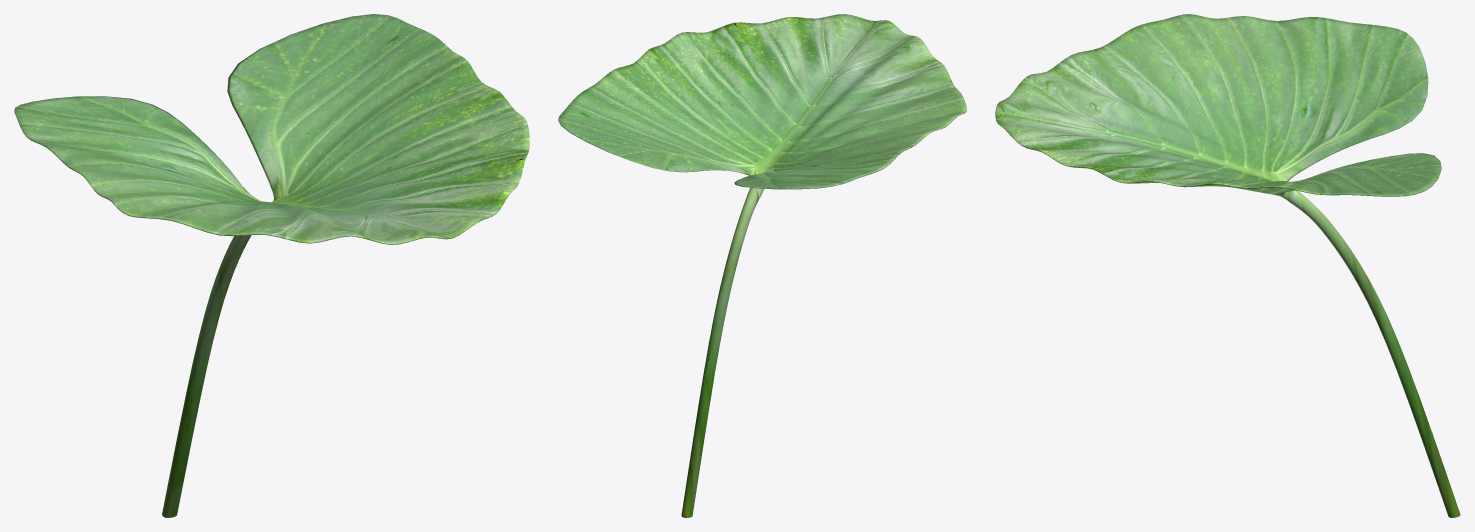
File: sprout.glb
3 renders of one model, left to right at view 1: azimuth 30°, elevation 25°; view 2: azimuth 150°, elevation 25°; view 3: azimuth 270°, elevation 25°, orthographic. The views are drawn at different scales.
Visible parts, largest first — view 1: Object_2; view 2: Object_2; view 3: Object_2.
Boxes of the visible parts, x1=… form: Object_2: x1=14, y1=14, x2=529, y2=517; Object_2: x1=558, y1=14, x2=966, y2=517; Object_2: x1=995, y1=14, x2=1460, y2=517.
Bounding box in the file's own units: 3.07 × 3.36 × 3.44.
1 material, 1 textured.
